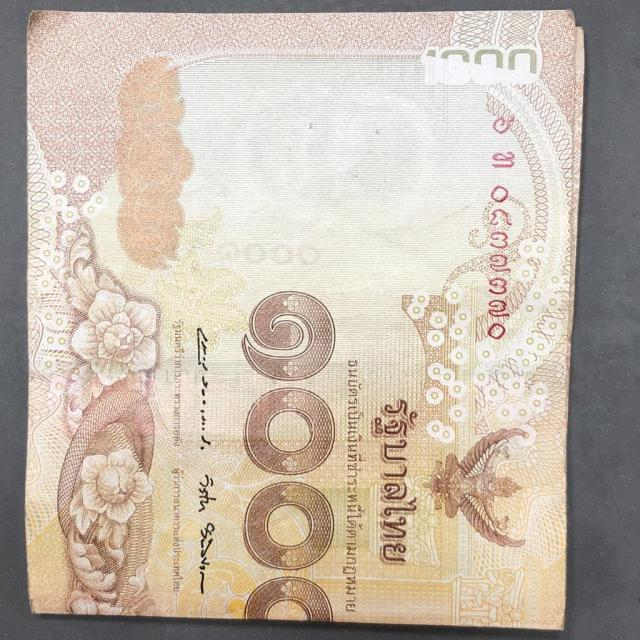THAI1000: (20, 10, 587, 639)
